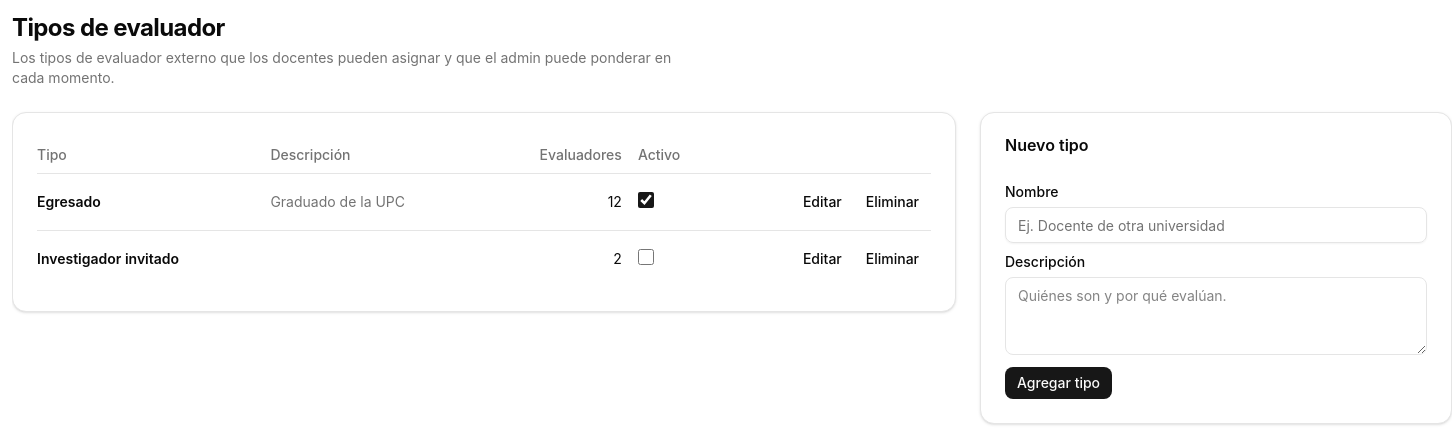
it: EvaluatorTypesPage › adds a type and clears the form
Type "Docente de otra universidad" into the field labelled "Nombre" at (1216, 225), box x1=1005 y1=207 x2=1427 y2=243
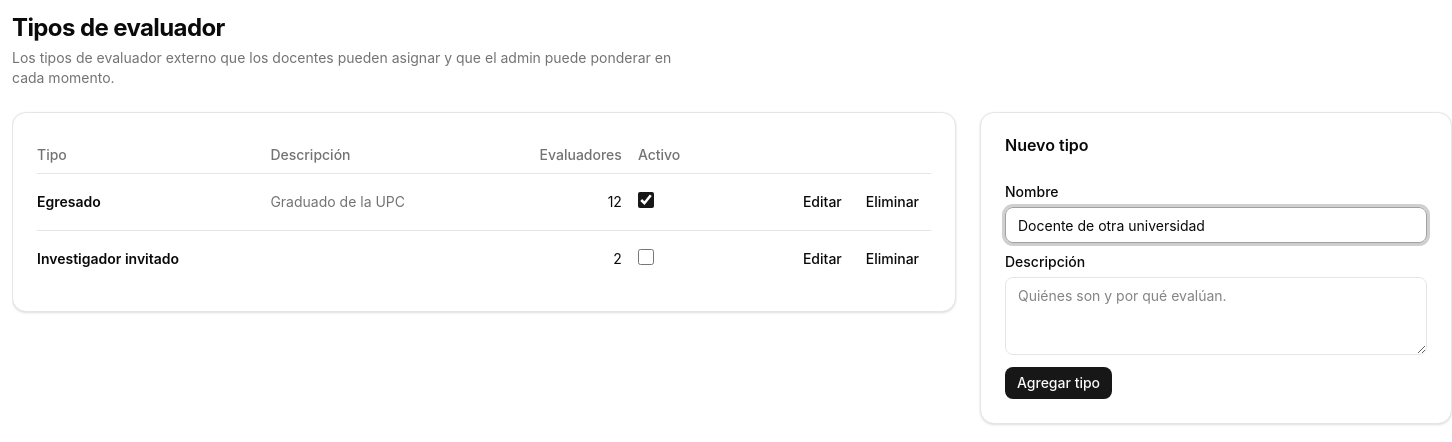
Click the button "Agregar tipo" at (1058, 383), box x1=1005 y1=367 x2=1112 y2=399
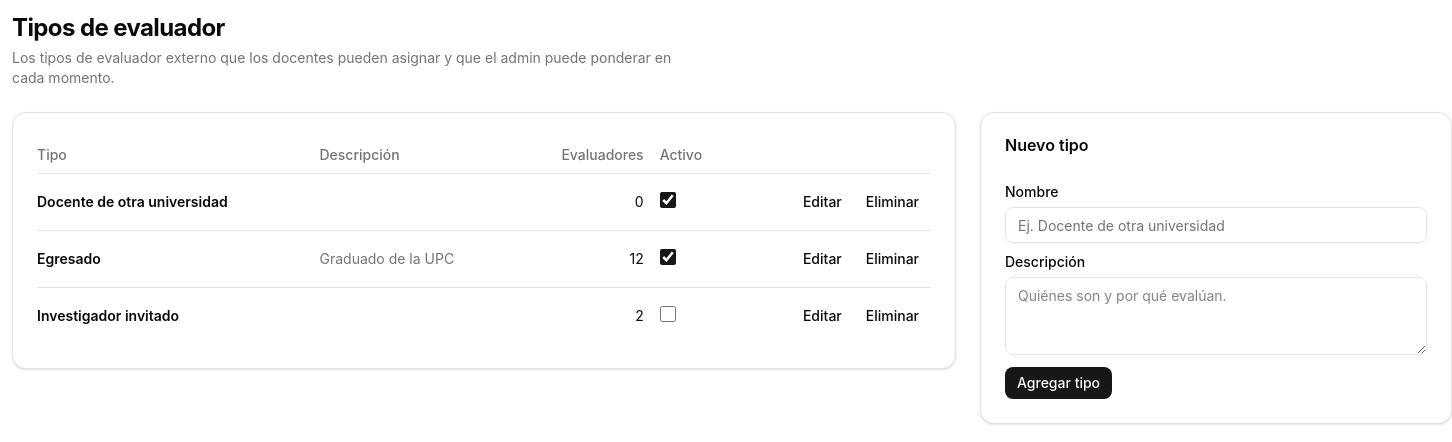
Now the row "Docente de otra universidad 0 Editar Eliminar" is shown, box x1=37 y1=174 x2=931 y2=230
Now the field labelled "Nombre" is empty, box x1=1005 y1=207 x2=1427 y2=243
